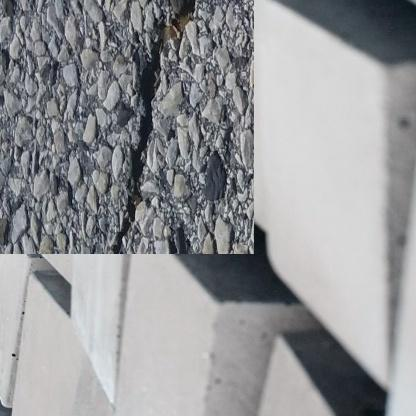Cracks: (100, 0, 189, 234), (152, 211, 163, 235)
